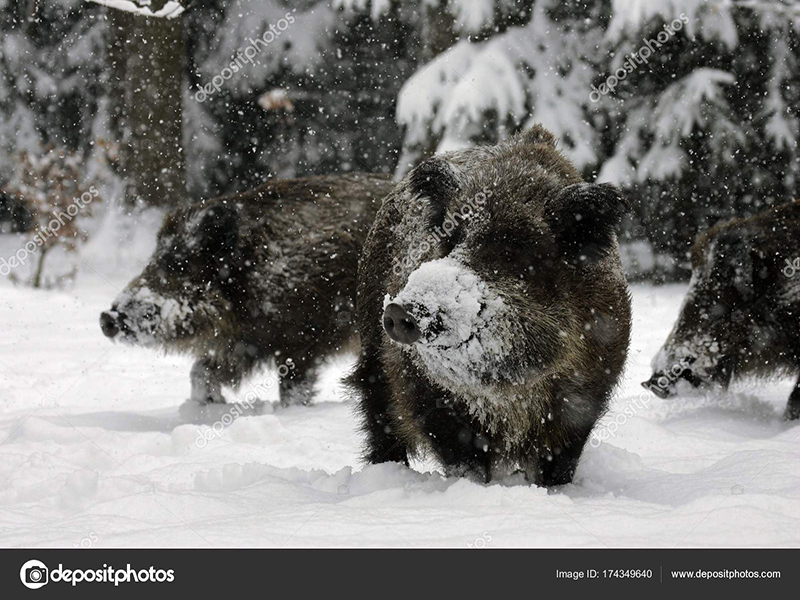cinghiale: (353, 135, 634, 468), (119, 169, 393, 398), (661, 204, 794, 408)
